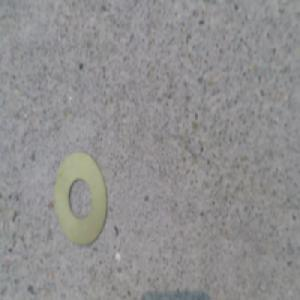Washer: (51, 151, 108, 249)
